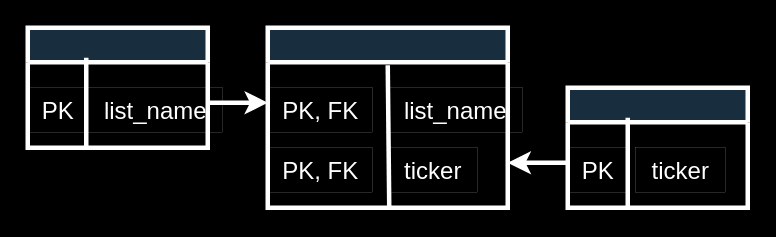
The diagram is 776 pixels wide and 237 high, and some of its shapes have lost their labels. Here are the shapes that lost their labels. From the top down, the box of each, then its label:
(25, 25, 209, 149): lists
(265, 25, 509, 209): lists_tickers
(565, 85, 749, 209): tickers
